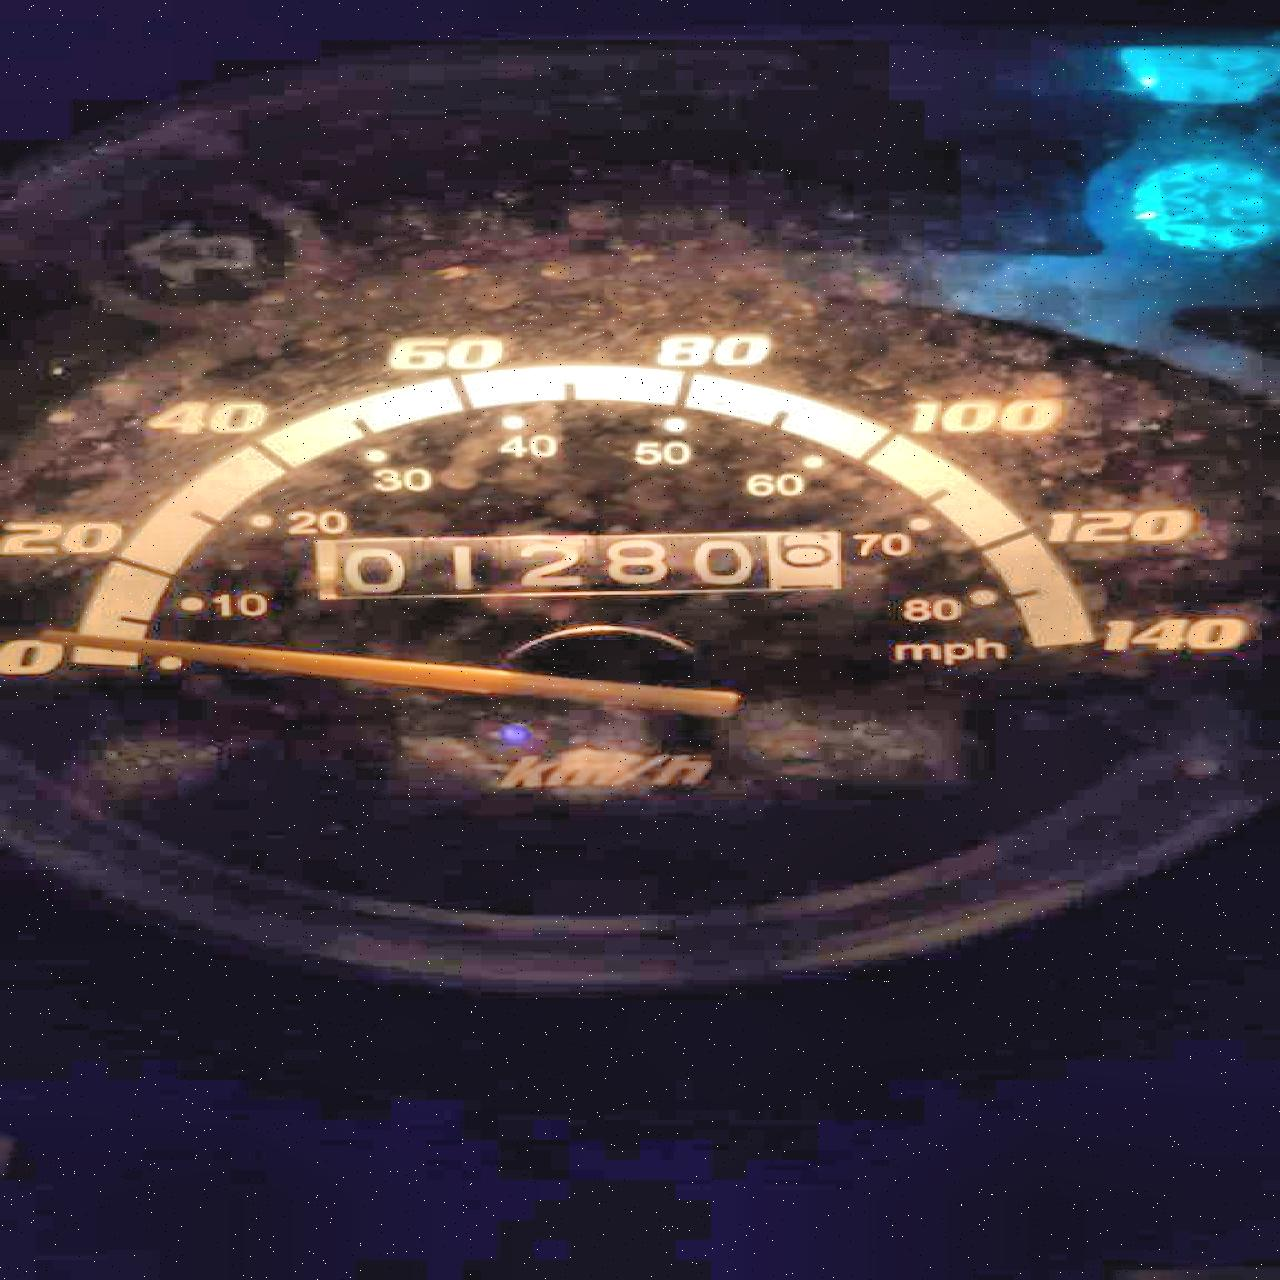0: (333, 543, 407, 595), (687, 536, 756, 586)
1: (436, 538, 484, 592)
2: (509, 536, 583, 588)
6: (771, 529, 838, 573)
8: (602, 536, 670, 586)
odometer: (300, 527, 851, 602)
